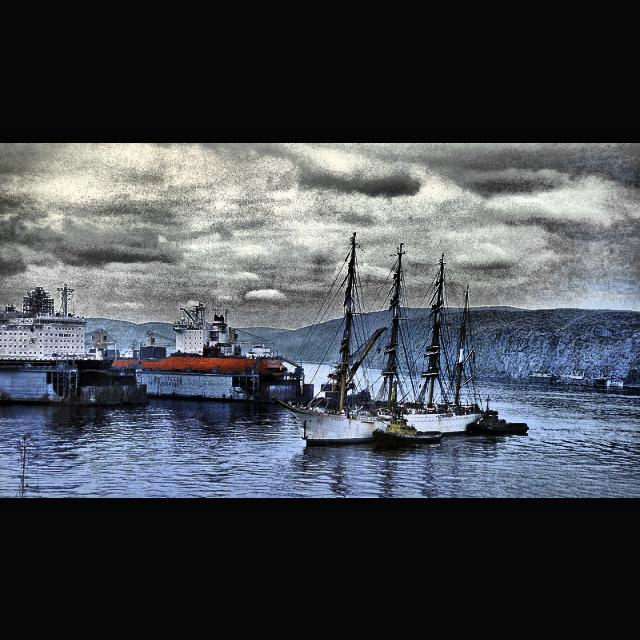sailing_vessel: (270, 229, 488, 446)
tug: (372, 404, 444, 442), (467, 404, 529, 434)
